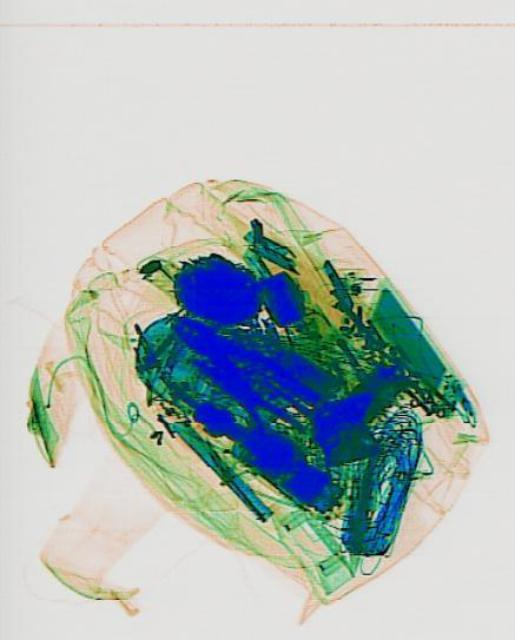Pliers: (157, 292, 320, 438)
